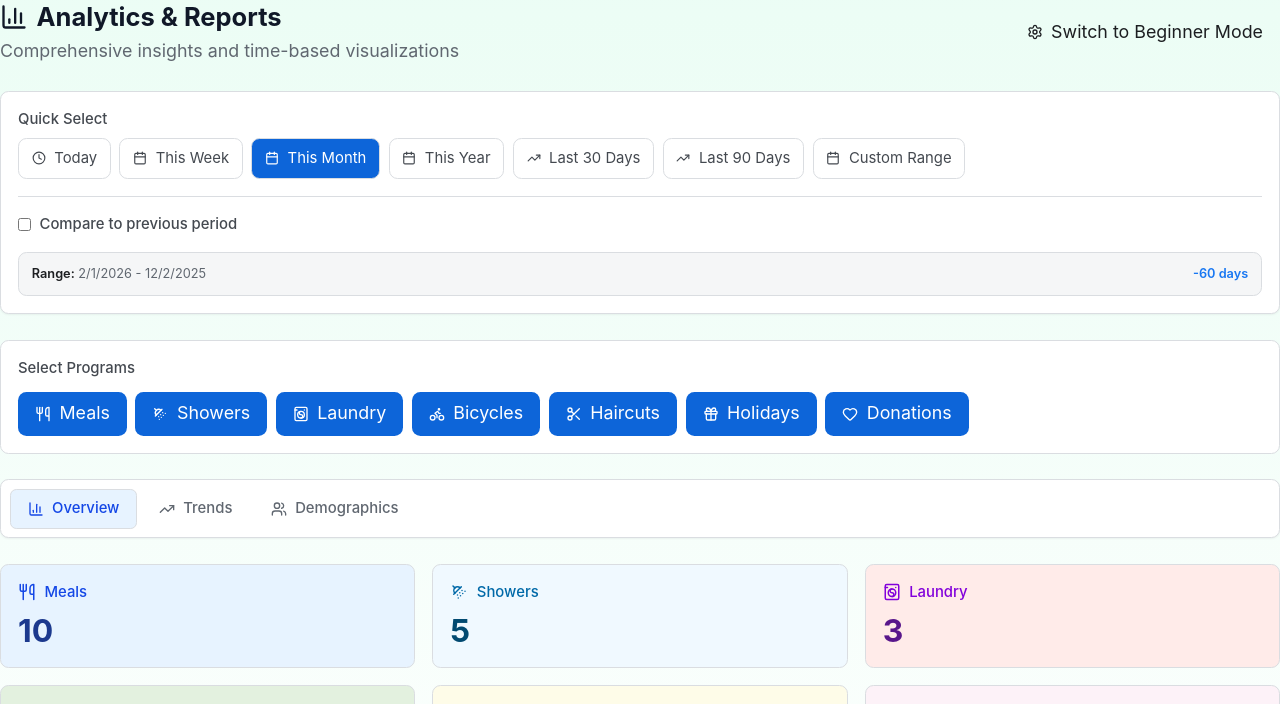
Test: Analytics - Filter Functionality › Demographics Tab Filter Integration › should filter demographics based on activeGuestIds from metrics
// Navigate to Demographics tab
Step 1. Click the button "Demographics" → (335, 509), box [254,488,416,529]
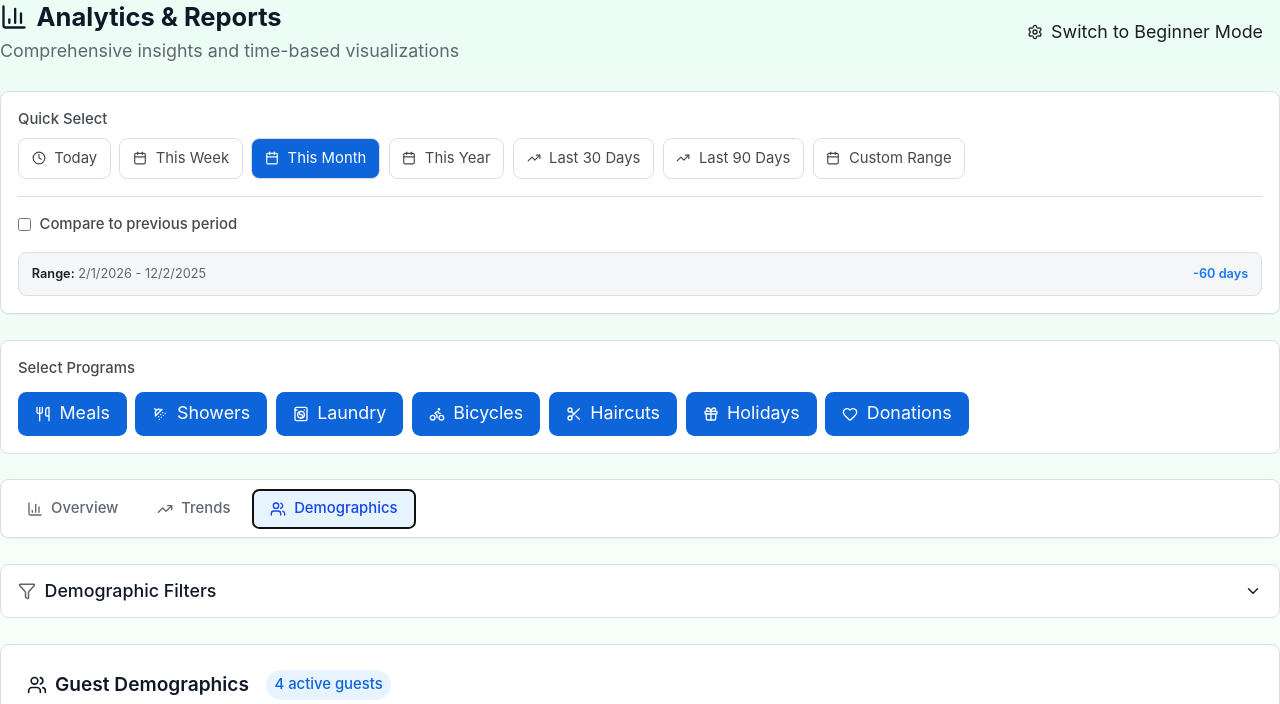
Expected: the text "4 active guests" is shown, [266,670,391,700]
